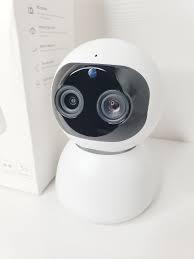maru: (52, 38, 164, 151)
